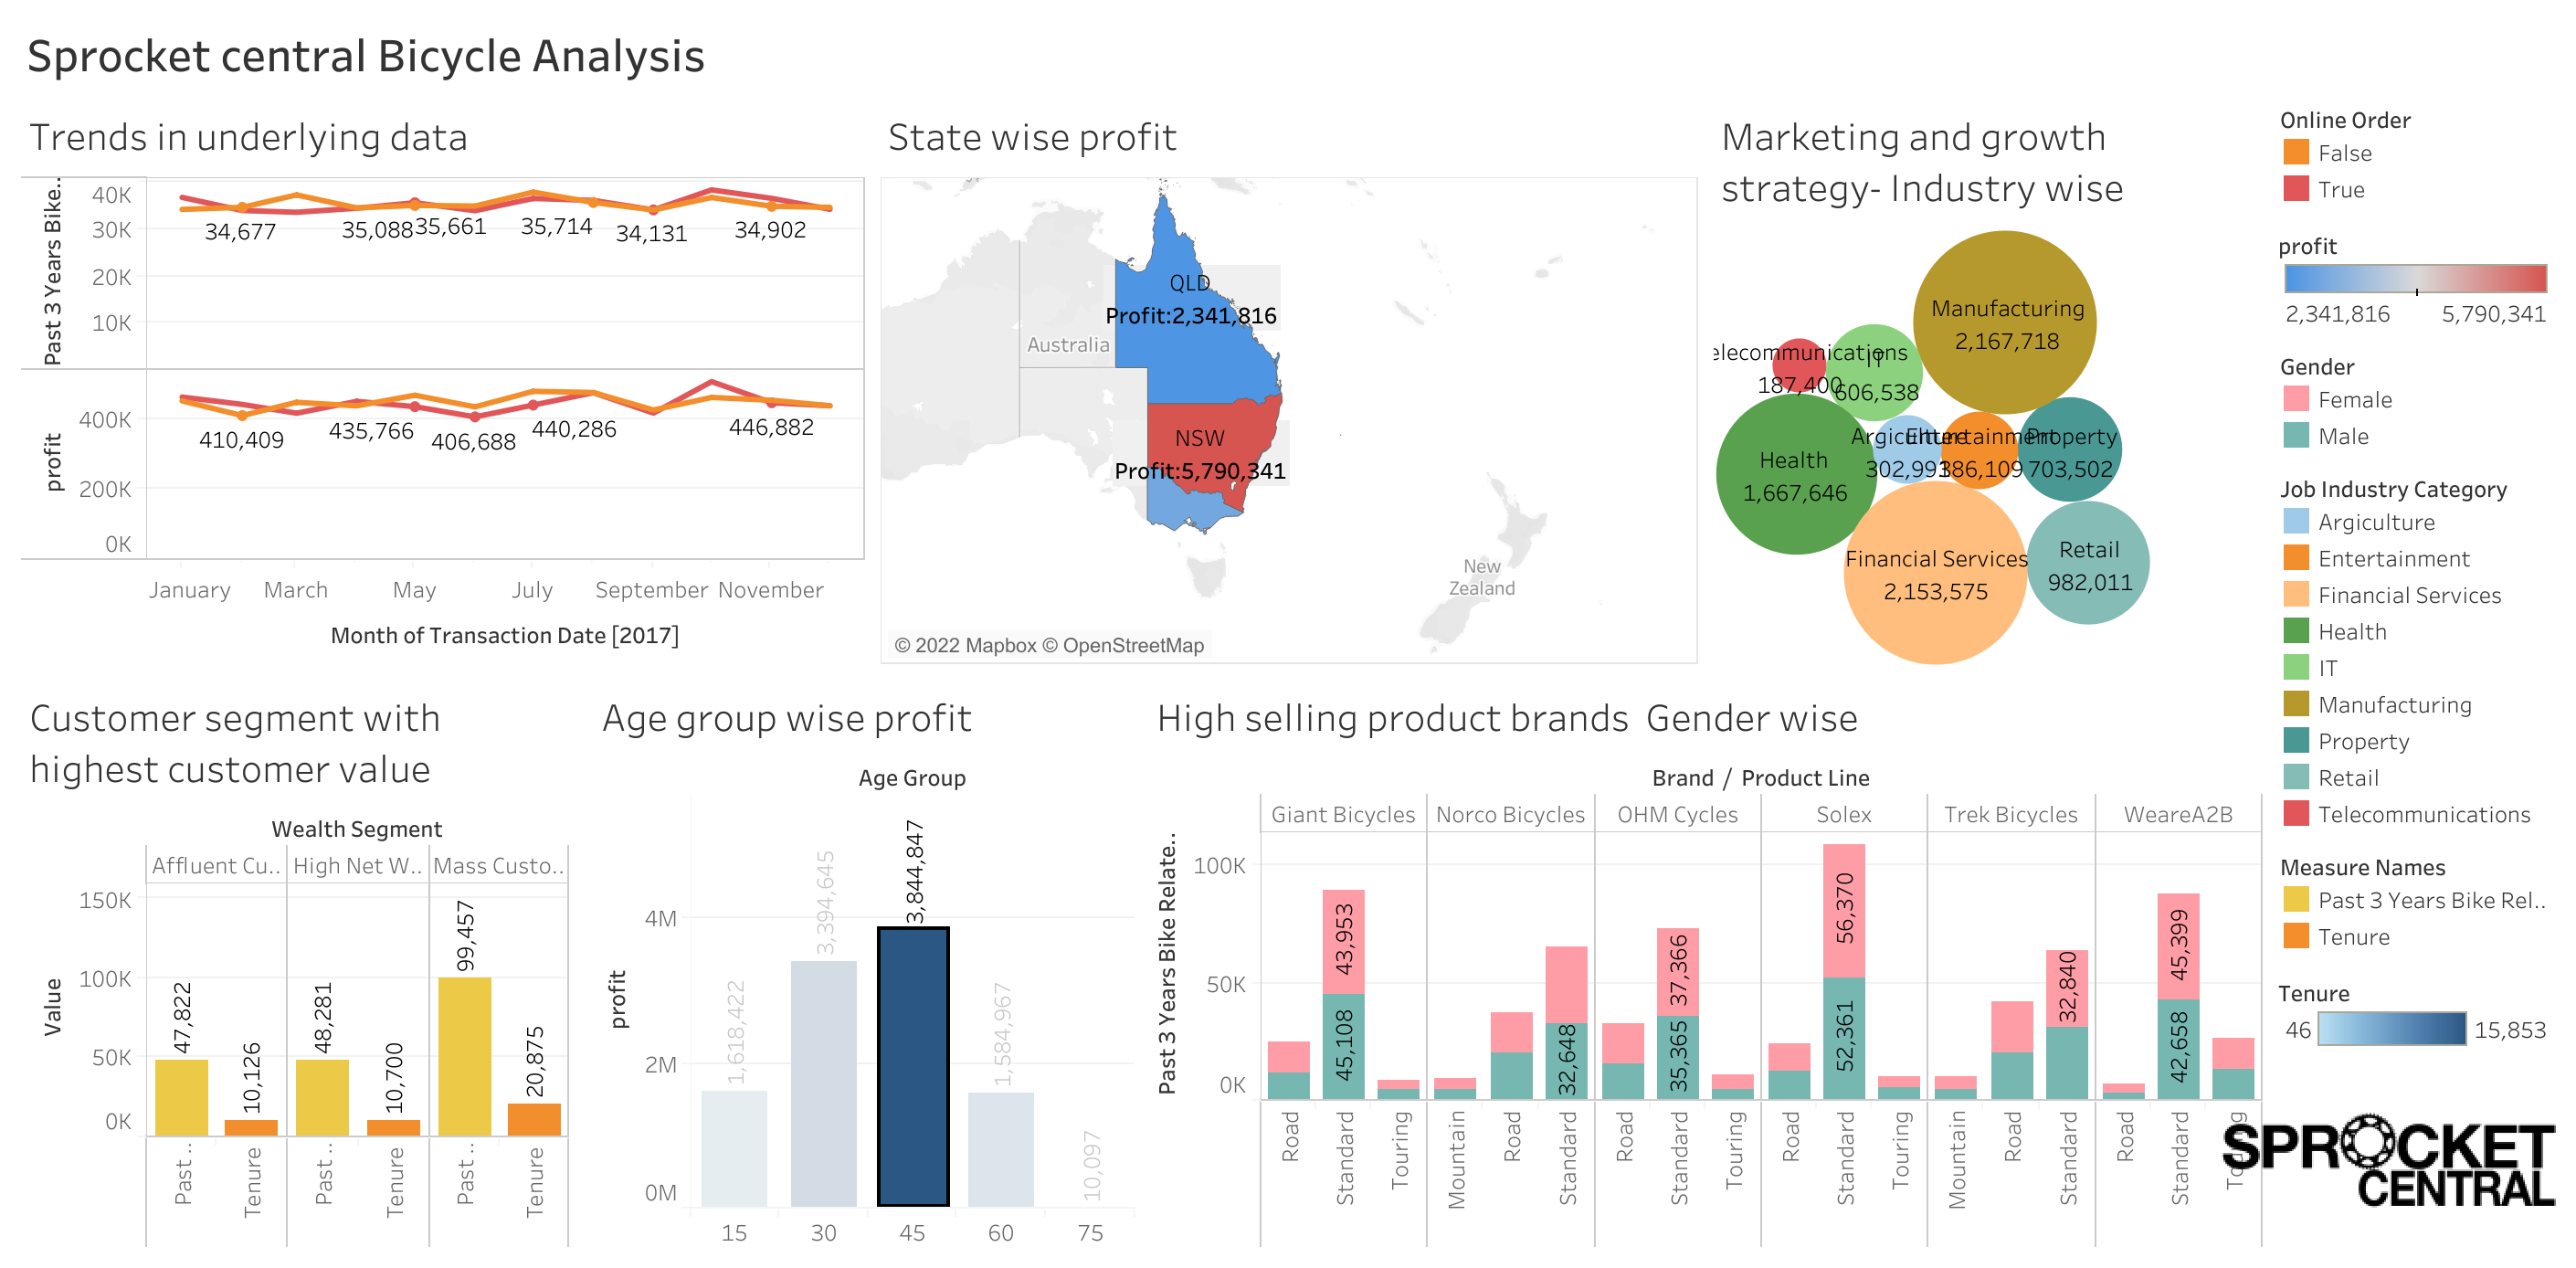

The page's visual inventory and layout, read from the dashboard file:
{"tool":"tableau","page":{"name":"Dashboard 1","canvas":[1000,1000],"units":"permille","ordinal":0},"visuals":[{"type":"title","box":[6.5,11.8,987,60.4]},{"type":"worksheet","title":"Monthly profit trends","mark":"Automatic","rows":["past_3_years_bike_related_purchases","Calculation_46091557881257984"],"cols":["transaction_date"],"box":[6.5,72.2,326.3,458]},{"type":"worksheet","title":"State wise profit","mark":"Automatic","box":[332.8,72.2,316.3,458]},{"type":"worksheet","title":"Industry wise profit","mark":"Circle","box":[649.1,72.2,214.2,458]},{"type":"legend","title":"Monthly profit trends","param":"[federated.10w3zzx1yaju8t1587itm0j881tf].[none:online_order:nk]","box":[863.3,72.2,130.2,97.2]},{"type":"legend","title":"State wise profit","param":"[federated.10w3zzx1yaju8t1587itm0j881tf].[sum:Calculation_46091557881257984:qk]","box":[863.3,169.4,130.2,95.7]},{"type":"legend","title":"High selling product brands","param":"[federated.10w3zzx1yaju8t1587itm0j881tf].[none:gender:nk]","box":[863.3,265.1,130.2,97.2]},{"type":"legend","title":"Industry wise profit","param":"[federated.10w3zzx1yaju8t1587itm0j881tf].[none:job_industry_category:nk]","box":[863.3,362.3,130.2,303.4]},{"type":"worksheet","title":"Customer segment with highest customer value","mark":"Automatic","cols":["wealth_segment"],"box":[6.5,530.2,214.2,458.1]},{"type":"worksheet","title":" Age group wise profit","mark":"Automatic","rows":["Calculation_46091557881257984"],"cols":["Age (bin)"],"box":[220.7,530.2,214.2,458.1]},{"type":"worksheet","title":"High selling product brands","mark":"Automatic","rows":["past_3_years_bike_related_purchases"],"cols":["brand","product_line"],"box":[434.9,530.2,428.4,458.1]},{"type":"legend","title":"Customer segment with highest customer value","param":"[federated.17e6uq41rc4qk9169ol731q0wn9j].[:Measure Names]","box":[863.3,665.7,130.2,97.2]},{"type":"legend","title":" Age group wise profit","param":"[federated.10w3zzx1yaju8t1587itm0j881tf].[sum:tenure:qk]","box":[863.3,762.9,130.2,95.7]},{"type":"image","param":"Image/sprocket_central_logo.png","box":[861.7,860.1,133.4,125.2]}]}

Visuals, with their boxes on the dashboard's canvas, which has no fixed pixel size, in thousandths of its width and height (x1, y1, x2, y2). These are canvas units, not pixel positions in the 2576x1268 screenshot, which may show the page scaled, cropped or inside an application window:
title: box(6, 12, 994, 72)
"Monthly profit trends" worksheet: box(6, 72, 333, 530)
"State wise profit" worksheet: box(333, 72, 649, 530)
"Industry wise profit" worksheet (Circle marks): box(649, 72, 863, 530)
"Monthly profit trends" legend: box(863, 72, 994, 169)
"State wise profit" legend: box(863, 169, 994, 265)
"High selling product brands" legend: box(863, 265, 994, 362)
"Industry wise profit" legend: box(863, 362, 994, 666)
"Customer segment with highest customer value" worksheet: box(6, 530, 221, 988)
" Age group wise profit" worksheet: box(221, 530, 435, 988)
"High selling product brands" worksheet: box(435, 530, 863, 988)
"Customer segment with highest customer value" legend: box(863, 666, 994, 763)
" Age group wise profit" legend: box(863, 763, 994, 859)
image: box(862, 860, 995, 985)
